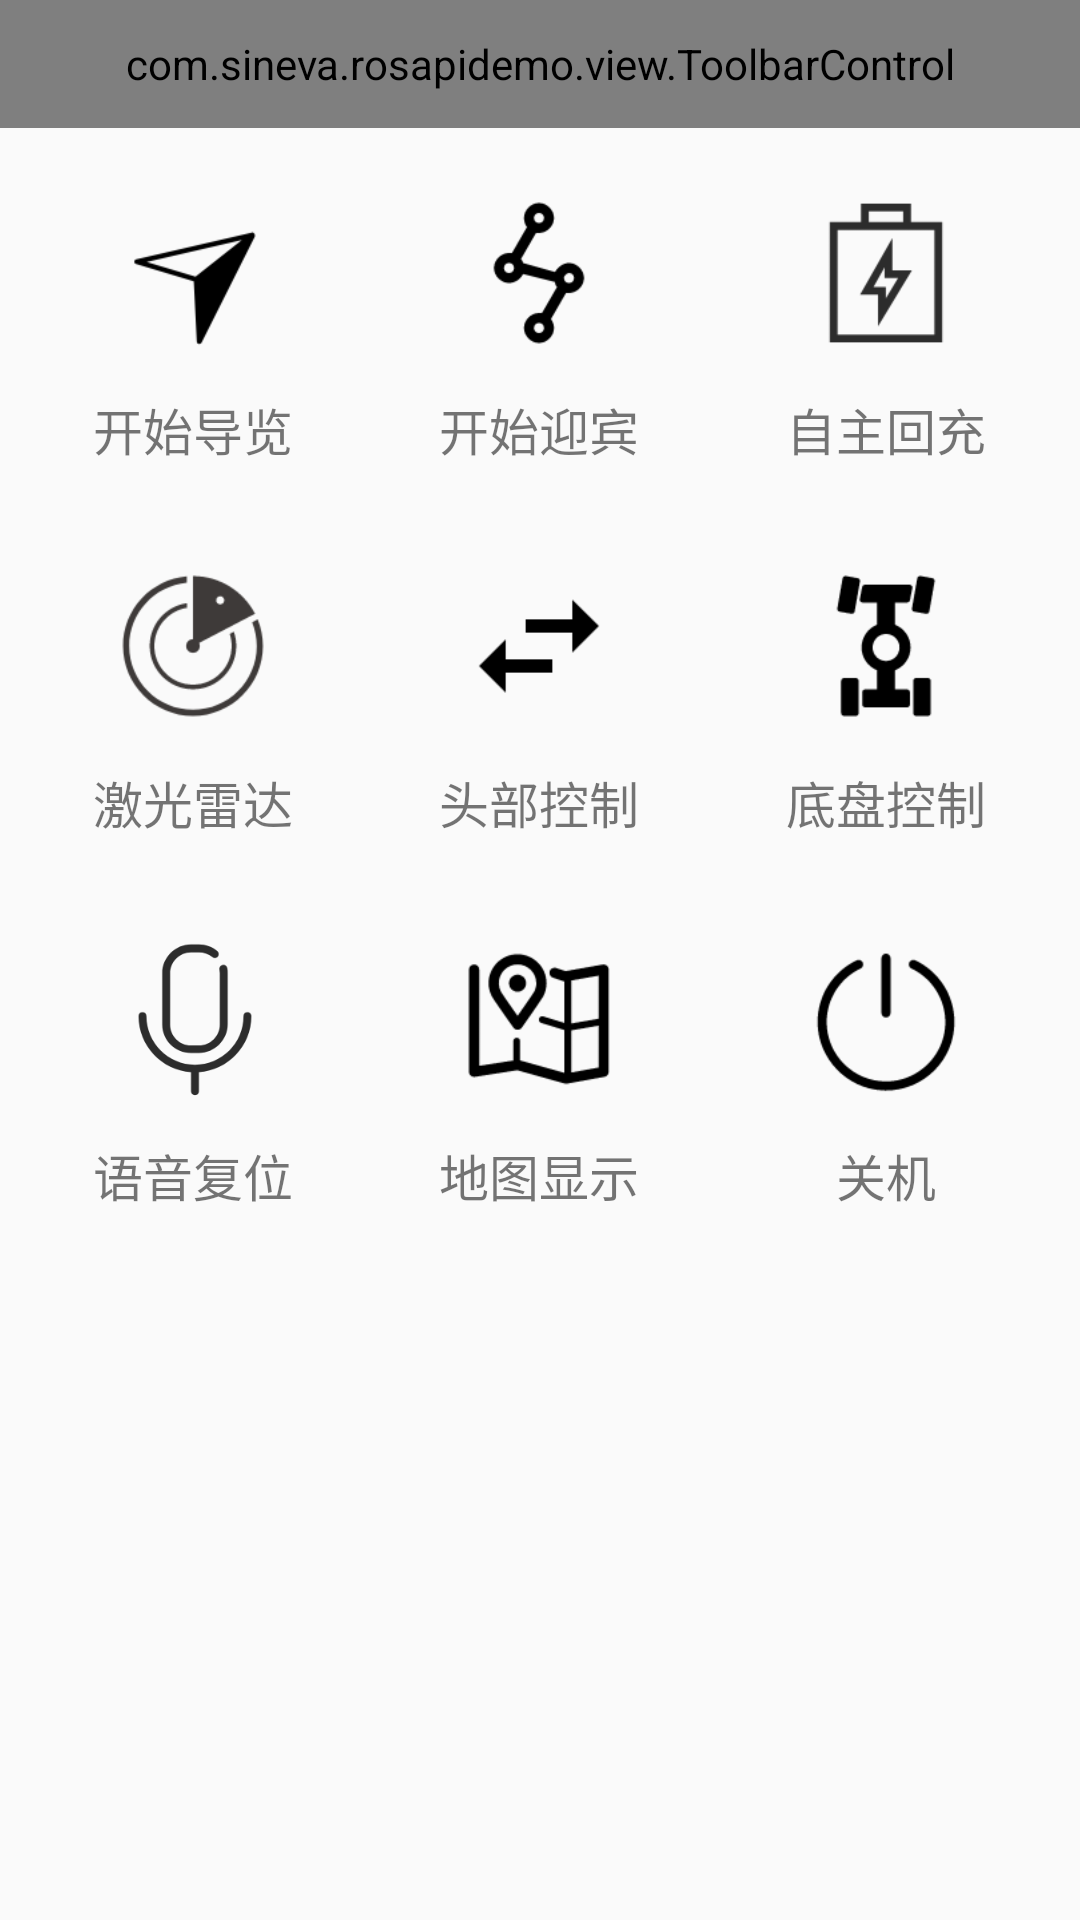

Icons on this 1080px×1920px Android screen, each with its box as (x1, y1, x2, y2):
bottom: (836, 575, 936, 717)
charge: (829, 203, 943, 343)
guide: (134, 231, 256, 345)
lidar: (122, 575, 264, 717)
map: (468, 953, 610, 1085)
shutdown: (817, 953, 955, 1091)
wake up: (138, 944, 252, 1095)
